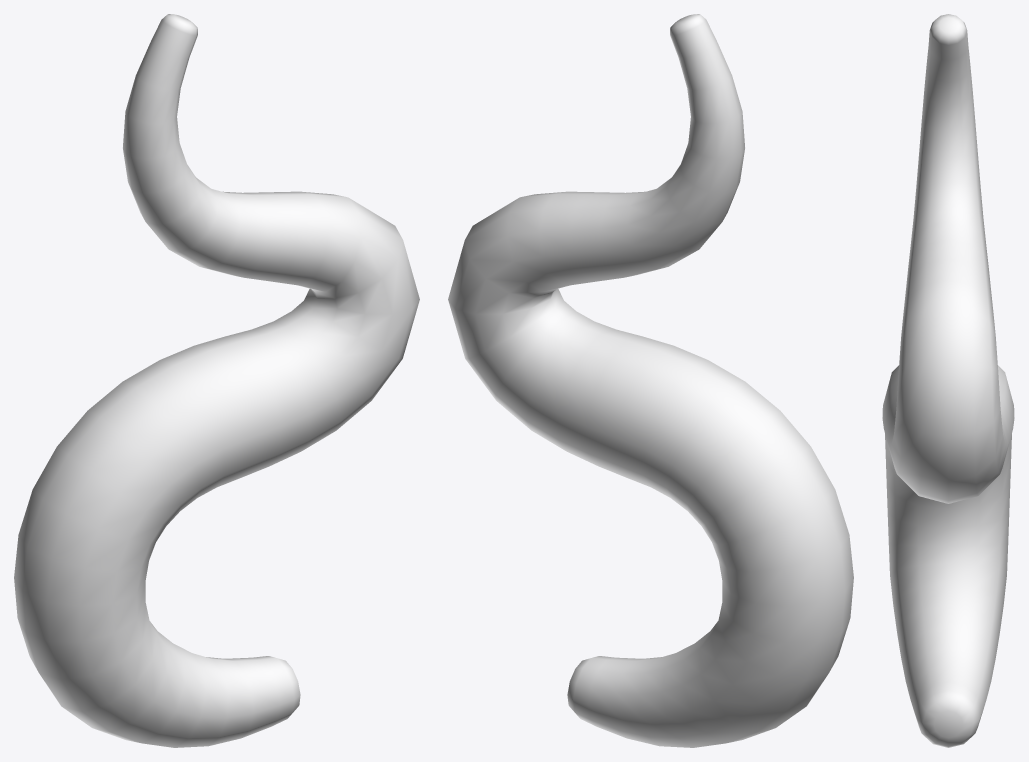
The model's file is Farm_11_Smoke_1.glb.
The picture shows the model from 3 angles, left to right: view 1: azimuth 30°, elevation 25°; view 2: azimuth 150°, elevation 25°; view 3: azimuth 270°, elevation 25°; orthographic projection. The views are drawn at different scales.
Parts seen in each view (by area): view 1: Farm_11_Smoke_1; view 2: Farm_11_Smoke_1; view 3: Farm_11_Smoke_1.
Part boxes in pixels (left/top/right/bottom): Farm_11_Smoke_1: left=14, top=14, right=419, bottom=747; Farm_11_Smoke_1: left=448, top=14, right=853, bottom=747; Farm_11_Smoke_1: left=882, top=14, right=1014, bottom=747.
Bounding box in the file's own units: 2.77 × 4.98 × 0.8634.
Materials: 1 (1 with a texture image).
